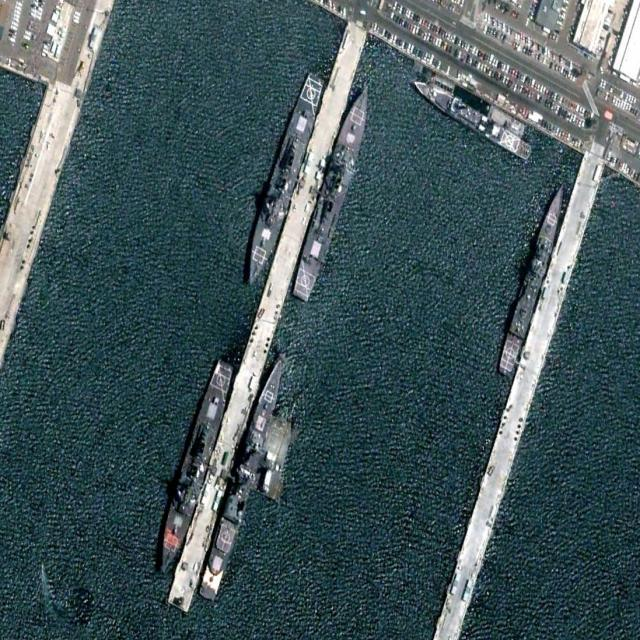Cruiser: (197, 352, 288, 604)
Destroyer: (150, 352, 237, 582), (290, 78, 377, 304), (241, 67, 327, 293)
Frigate: (497, 180, 569, 377)
Other Ship: (410, 69, 534, 164)
